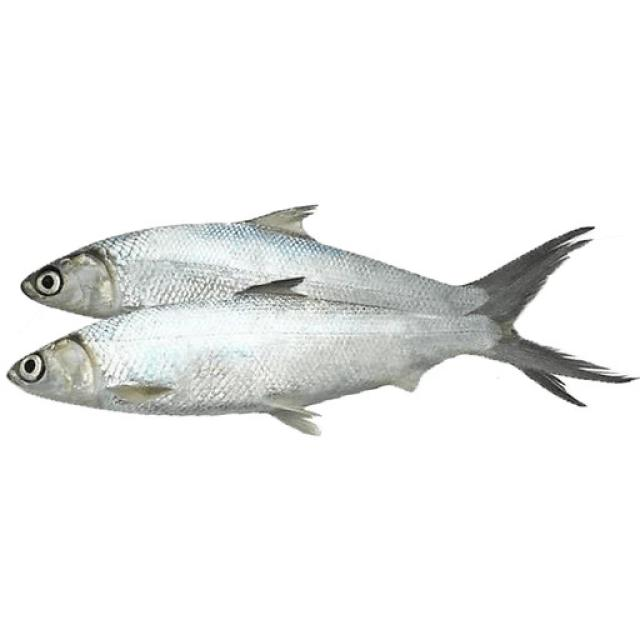Bangus: (0, 180, 640, 461)
